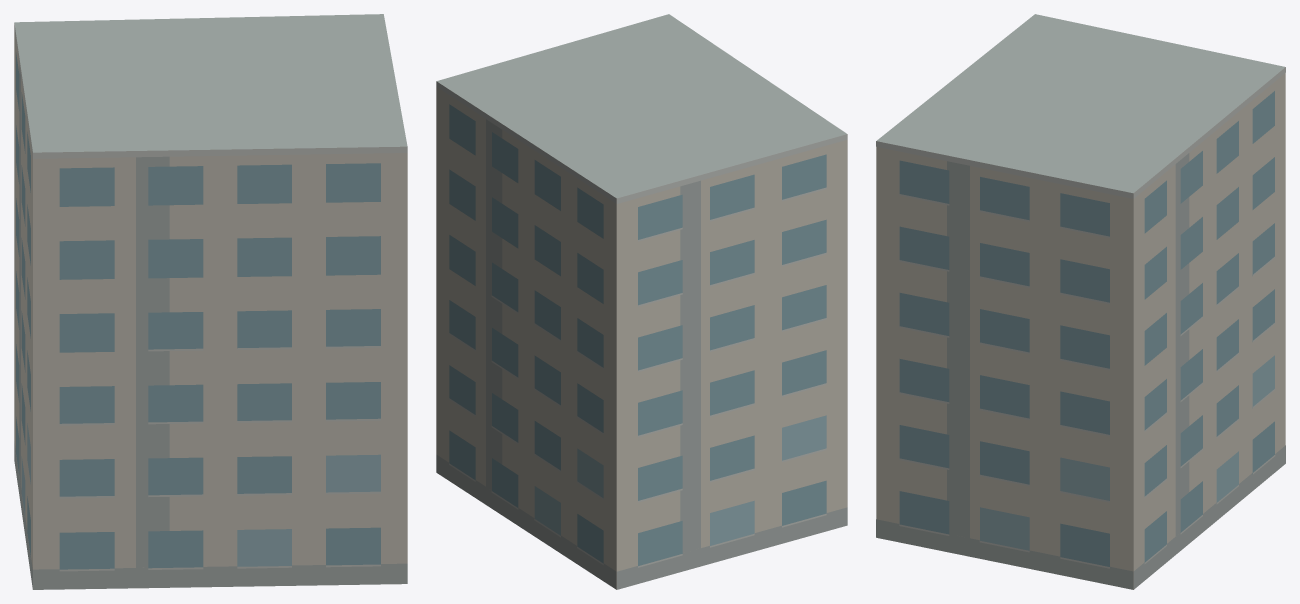
The model's file is survey-upis-32948657.glb.
3 renders of one model, left to right at view 1: azimuth 30°, elevation 25°; view 2: azimuth 150°, elevation 25°; view 3: azimuth 270°, elevation 25°, orthographic. The views are drawn at different scales.
Visible parts, largest first — view 1: survey-upis-32948657.tmp; view 2: survey-upis-32948657.tmp; view 3: survey-upis-32948657.tmp.
Boxes of the visible parts, x1,y1,x2,y2 form: survey-upis-32948657.tmp: [14, 14, 407, 589]; survey-upis-32948657.tmp: [436, 14, 847, 589]; survey-upis-32948657.tmp: [876, 14, 1285, 589].
Size of the model in its own units: 16.49 by 17 by 15.92.
